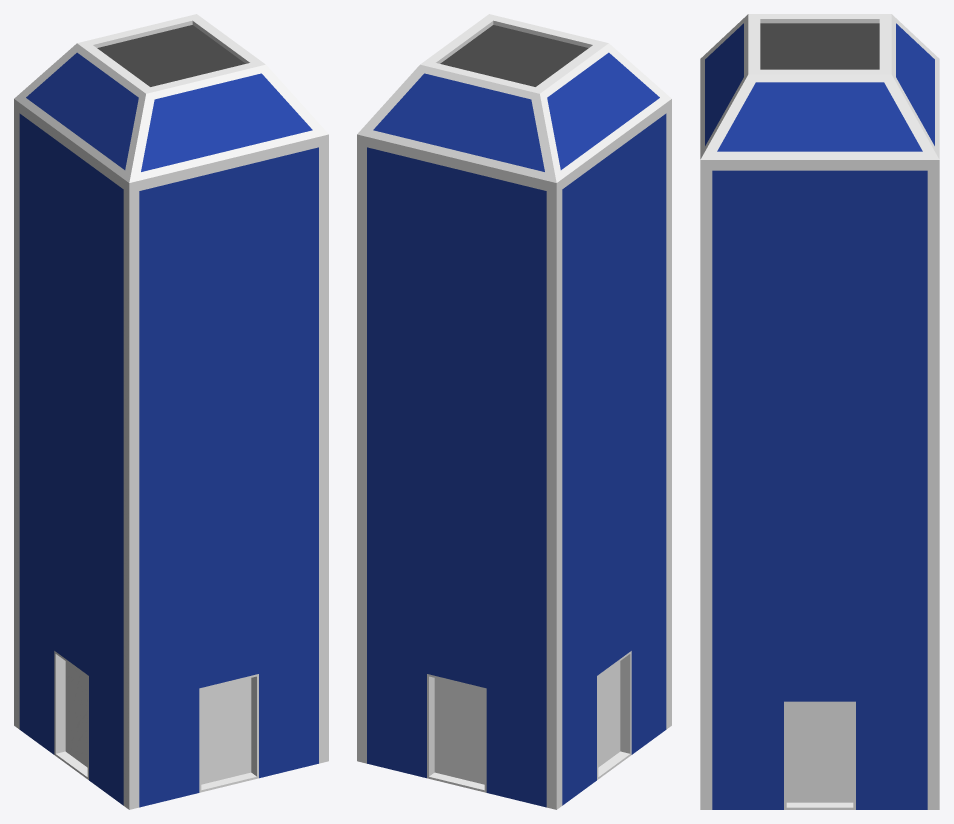
Rendered from OfficeSmall.fbx.
3 renders of one model, left to right at view 1: azimuth 30°, elevation 25°; view 2: azimuth 150°, elevation 25°; view 3: azimuth 270°, elevation 25°, orthographic. The views are drawn at different scales.
Parts seen in each view (by area): view 1: MainBuilding; view 2: MainBuilding; view 3: MainBuilding.
Boxes of the visible parts, <box> form: MainBuilding: <box>14,14,328,809</box>; MainBuilding: <box>357,14,671,809</box>; MainBuilding: <box>700,14,939,809</box>.
Bounding box in the file's own units: 100 × 330 × 100.
